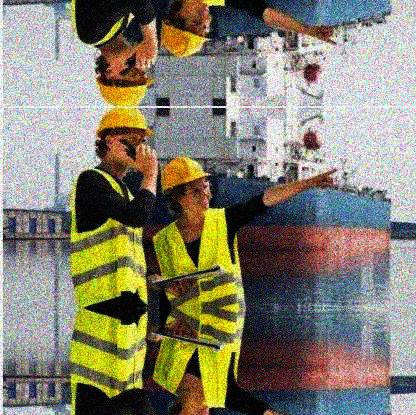helmet: (158, 157, 216, 222), (95, 108, 153, 169), (94, 49, 156, 106), (161, 1, 214, 55)
